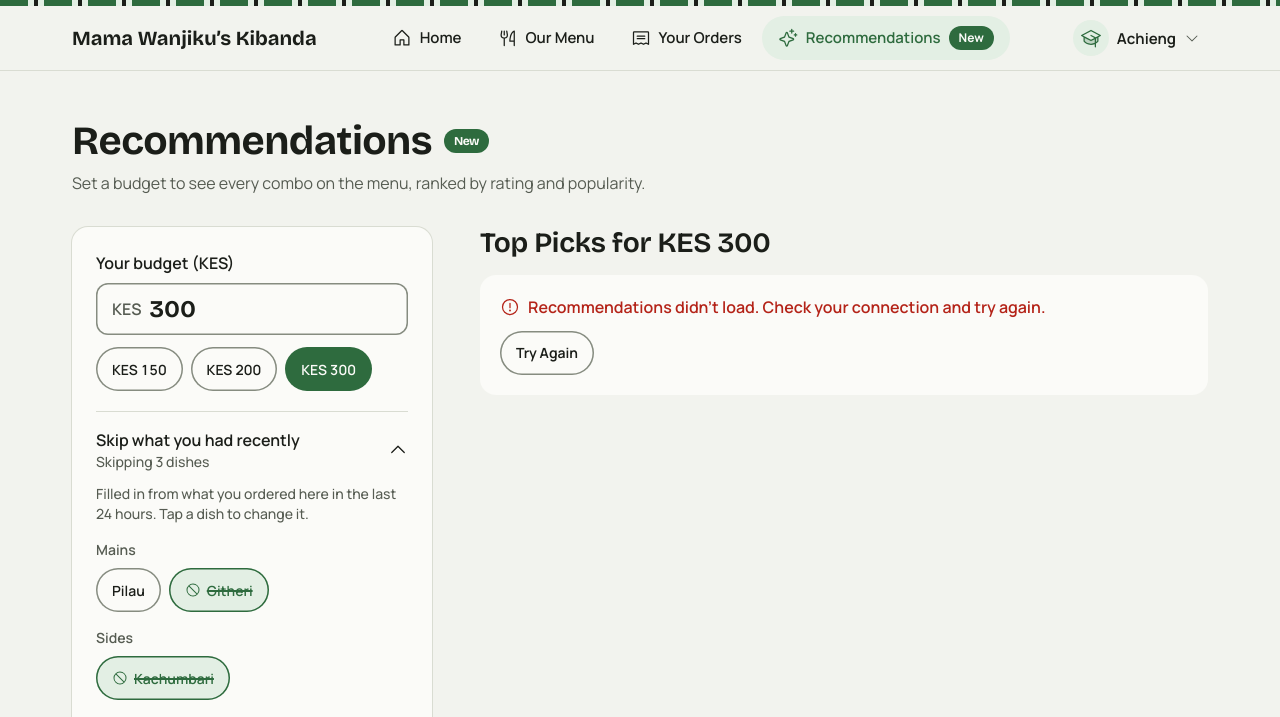
Test: Recommendations › shows an error with a retry, and keeps the controls usable
Expected: the text "Recommendations didn't load" is shown, top-left (528, 296), bottom-right (1046, 318)
Expected: the field labelled "Your budget (KES)" is enabled, top-left (149, 293), bottom-right (392, 325)
Click the button "Try Again" at (547, 353), box top-left (500, 331), bottom-right (594, 375)
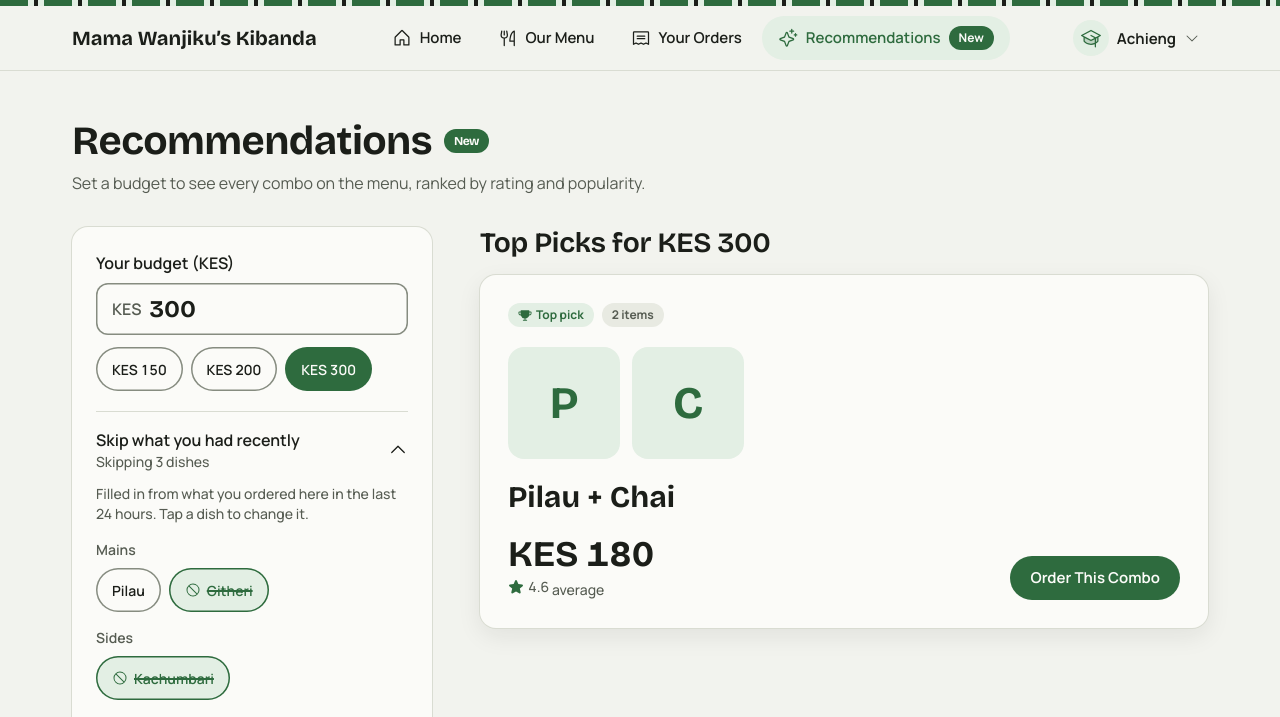
Expected: the heading "Pilau + Chai" is shown, top-left (508, 479), bottom-right (675, 515)
